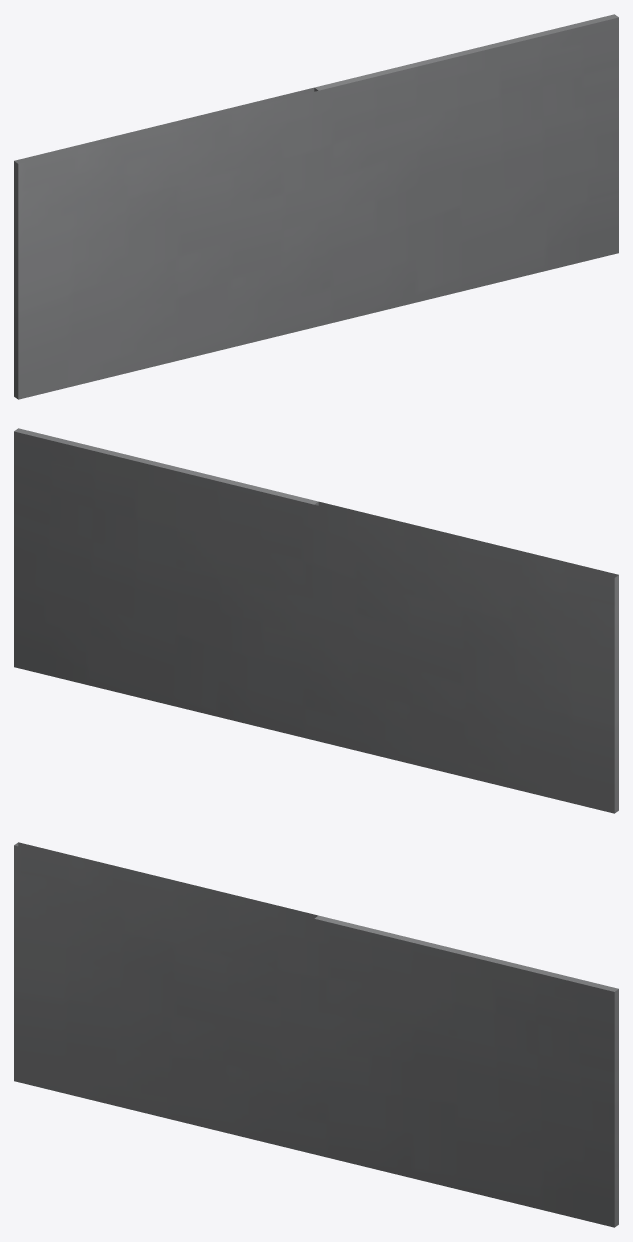
File: pared final  1.fbx
The picture shows the model from 3 angles, top to bottom: view 1: azimuth 30°, elevation 25°; view 2: azimuth 150°, elevation 25°; view 3: azimuth 330°, elevation 25°; orthographic projection.
Parts seen in each view (by area): view 1: Pared nivel 1.003; view 2: Pared nivel 1.003; view 3: Pared nivel 1.003.
Part boxes in pixels (x1,y1,x2,y2): Pared nivel 1.003: (14, 14, 618, 399); Pared nivel 1.003: (14, 428, 618, 813); Pared nivel 1.003: (14, 842, 618, 1227).
Size of the model in its own units: 800 by 300 by 10.
Materials: 1 (1 with a texture image).
